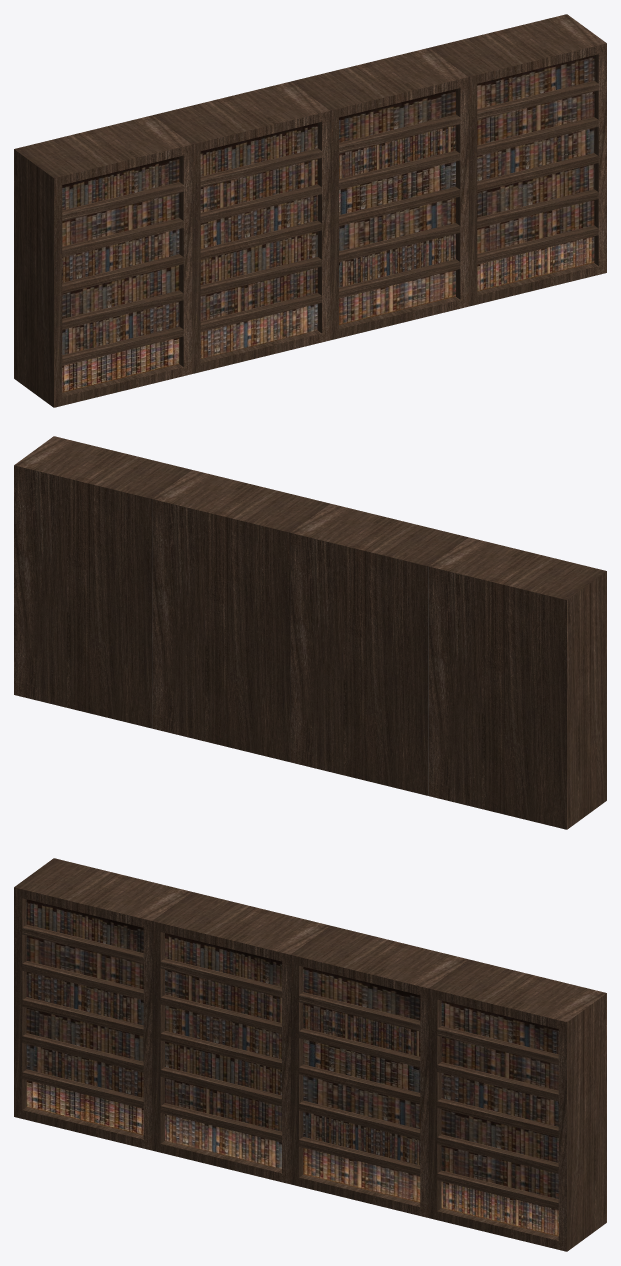
The model's file is Large Shelf of Library.glb.
The picture shows the model from 3 angles, top to bottom: view 1: azimuth 30°, elevation 25°; view 2: azimuth 150°, elevation 25°; view 3: azimuth 330°, elevation 25°; orthographic projection.
Visible parts, largest first — view 1: Shelves, Shelves.003, Shelves.002, Shelves.001; view 2: Shelves, Shelves.003, Shelves.002, Shelves.001; view 3: Shelves.003, Shelves, Shelves.001, Shelves.002.
Part boxes in pixels (x1,y1,x2,y2): Shelves: (14, 115, 192, 407); Shelves.003: (429, 14, 606, 306); Shelves.002: (291, 48, 468, 340); Shelves.001: (153, 81, 330, 373); Shelves: (428, 537, 606, 829); Shelves.003: (14, 436, 191, 728); Shelves.002: (152, 470, 329, 762); Shelves.001: (290, 503, 467, 795); Shelves.003: (428, 959, 606, 1251); Shelves: (14, 858, 191, 1150); Shelves.001: (152, 892, 329, 1184); Shelves.002: (290, 925, 467, 1217).
Bounding box in the file's own units: 8 × 3.17 × 1.
1 material, 1 textured.
